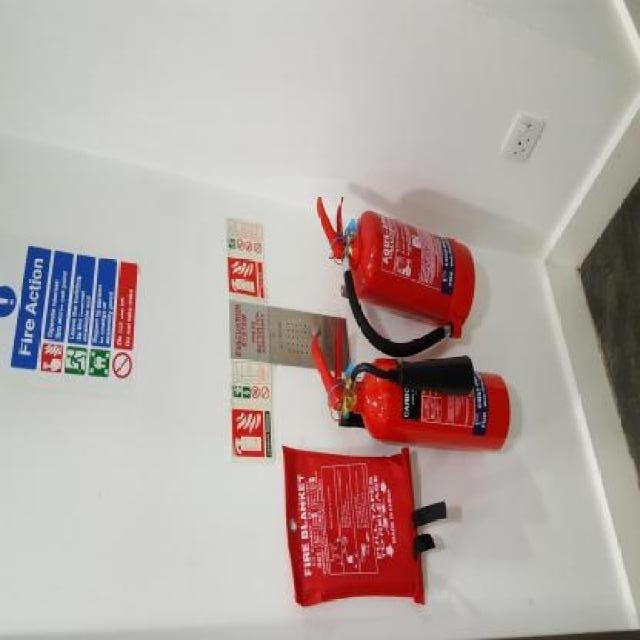fire extinguisher: (316, 194, 476, 357), (312, 326, 512, 452)
